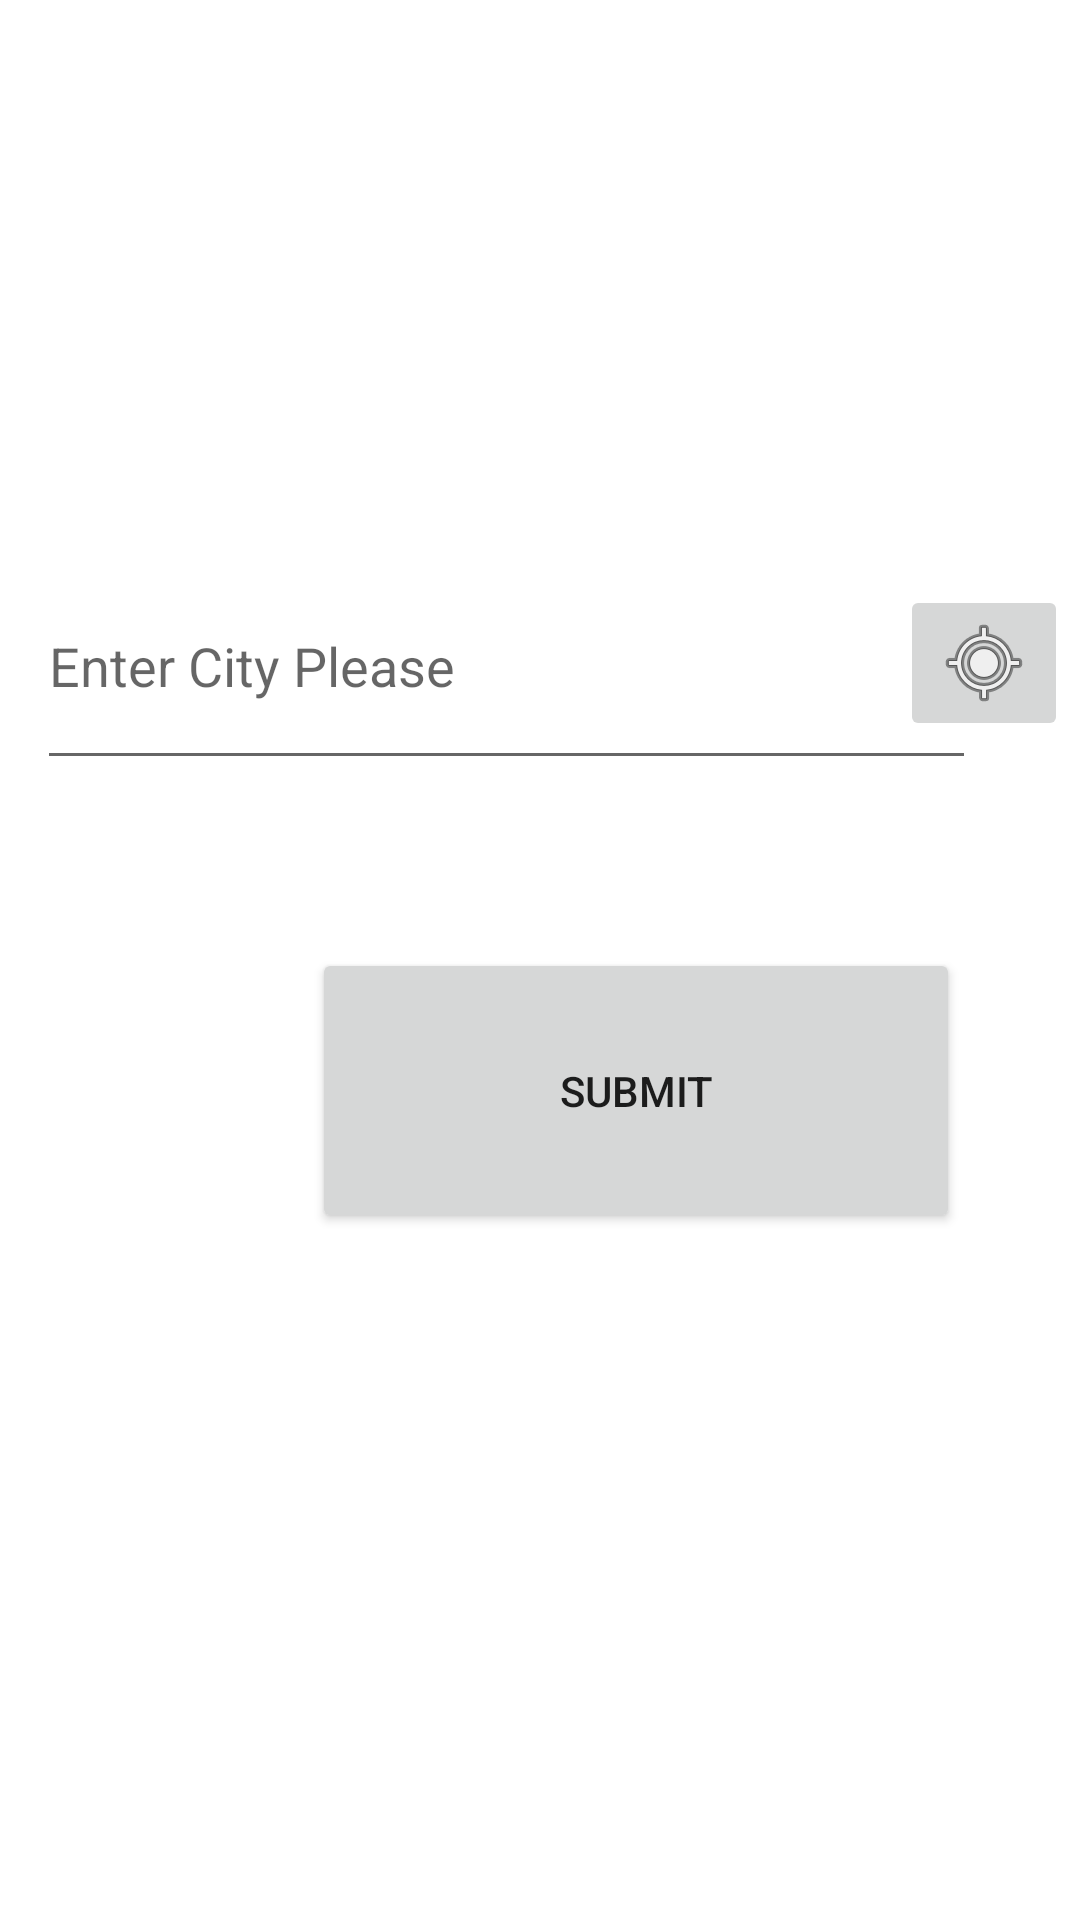

Where to tap for icons on this 1080px×1920px app screen, as [x,y]:
mylocation: [984,663]
